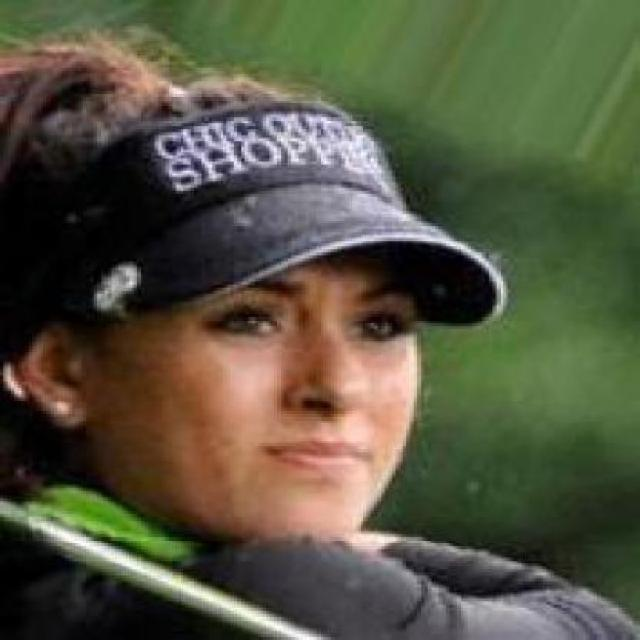closed-mouth: (264, 427, 378, 482)
